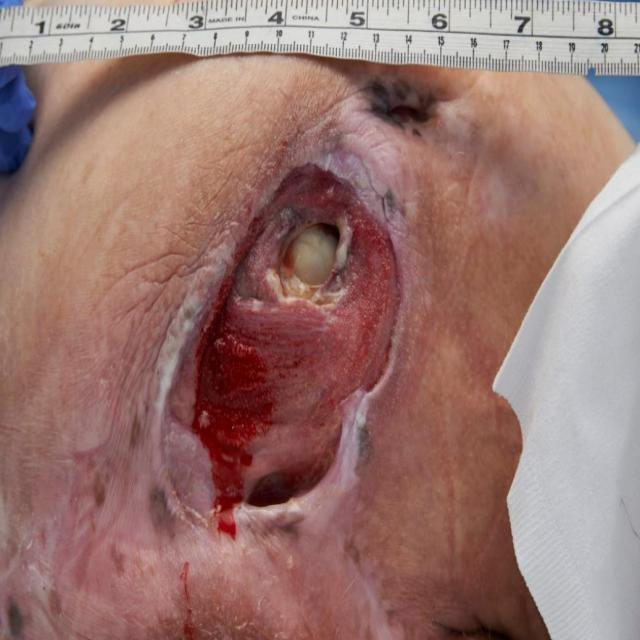stage-4: (195, 165, 400, 536)
